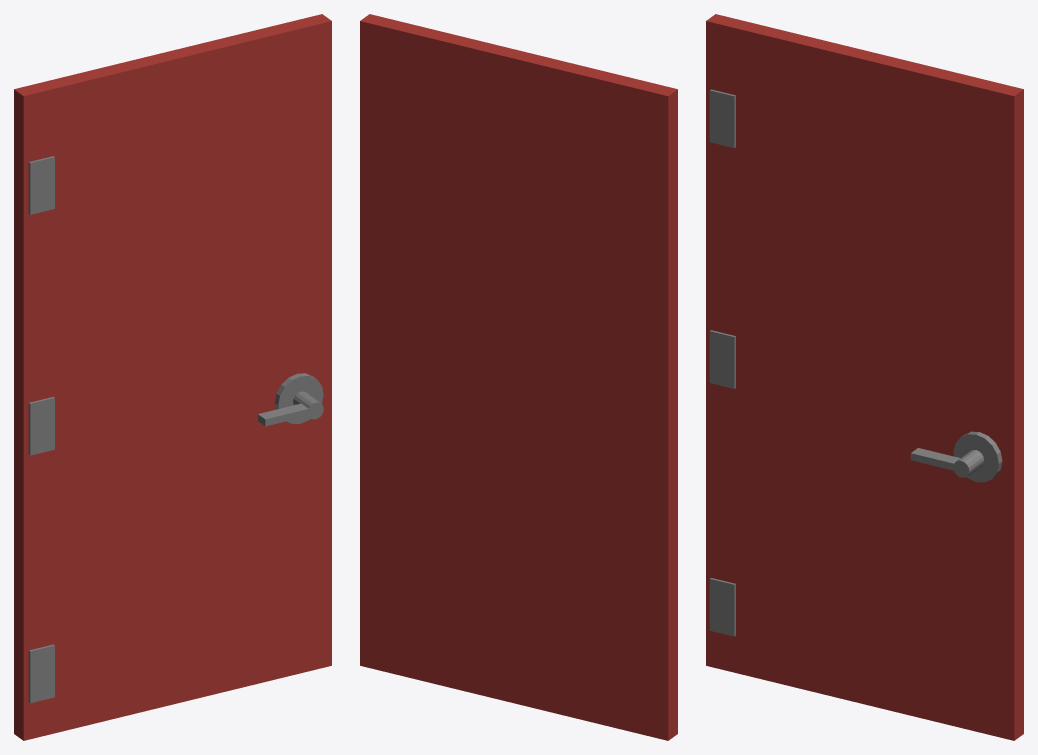
The model's file is DoorInner.fbx.
3 views of the same model, side by side, from view 1: azimuth 30°, elevation 25°; view 2: azimuth 150°, elevation 25°; view 3: azimuth 330°, elevation 25° (orthographic).
Parts seen in each view (by area): view 1: Cube.102; view 2: Cube.102; view 3: Cube.102.
Boxes of the visible parts, left/top/right/bottom form: Cube.102: left=14, top=14, right=331, bottom=740; Cube.102: left=360, top=14, right=677, bottom=740; Cube.102: left=706, top=14, right=1023, bottom=740.
Size of the model in its own units: 384 by 768 by 60.65.
